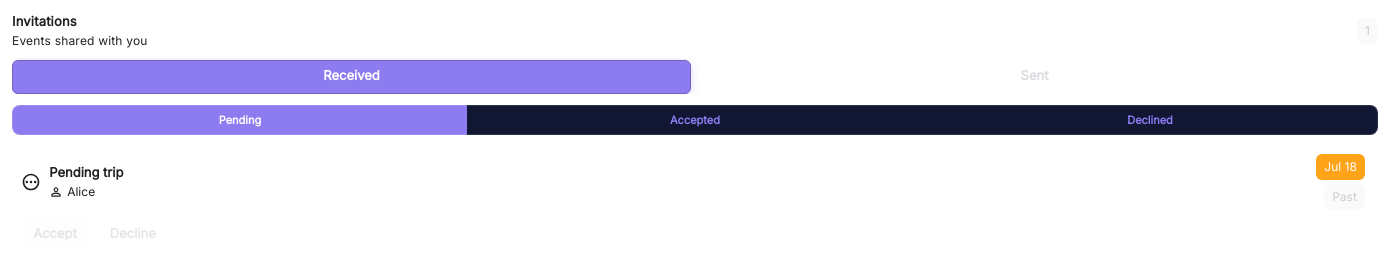
Scenario: InvitationPanel - inline actions › WhenBusyIsTrue_DisablesInlineAcceptDeclineAndRemoveButtons
Expected: the button "Accept" is disabled, [21,219,89,249]
Expected: the button "Decline" is disabled, [97,219,169,249]
Click the tab "Sent" at [1034, 76], box [695,58,1374,94]
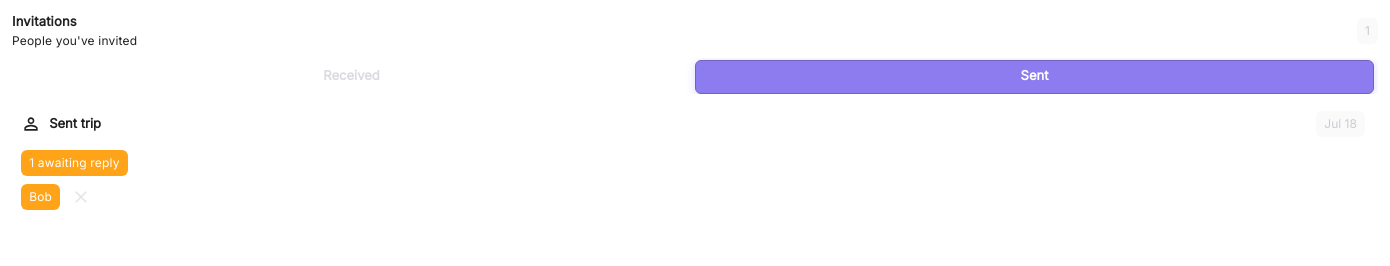
Expected: the button named "Remove" is disabled, [66,182,96,212]
